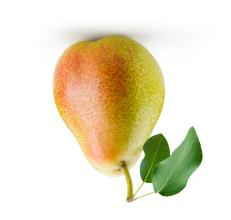pear: (0, 0, 231, 220)
